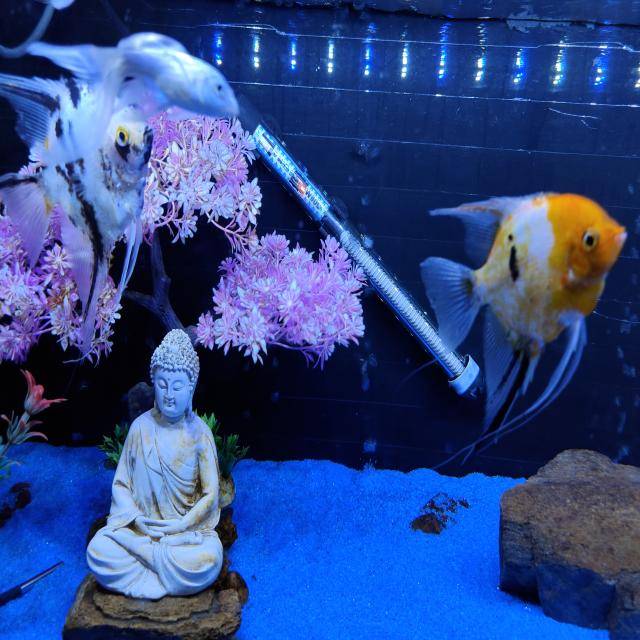Fish: (420, 194, 625, 457), (0, 75, 152, 354), (27, 33, 237, 143)
